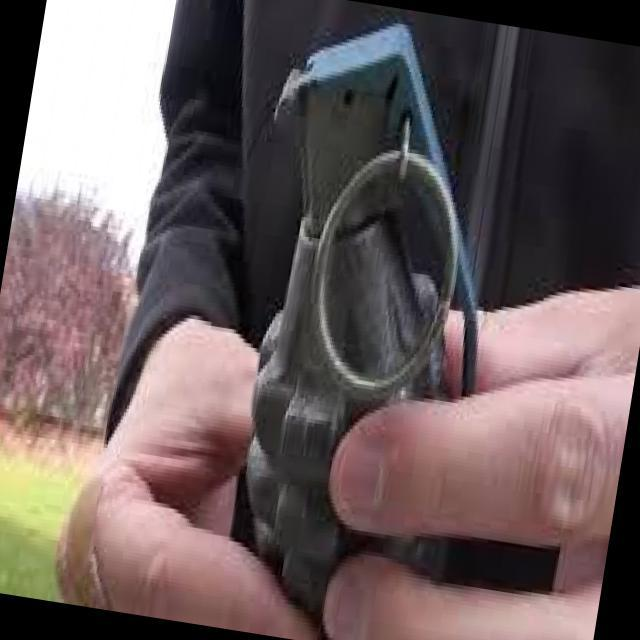grenade: (194, 18, 530, 620)
